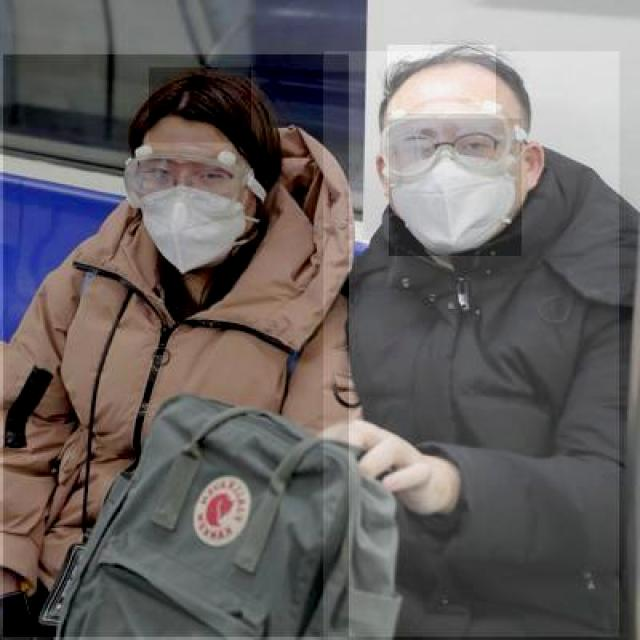face_mask: (388, 118, 522, 256), (138, 150, 250, 272)
glasses: (377, 101, 514, 182), (121, 144, 250, 213)
hand_noglove: (314, 417, 438, 495)
head_nohelmet: (147, 67, 251, 144), (386, 45, 496, 115)
person: (1, 54, 348, 638), (323, 51, 619, 638)
